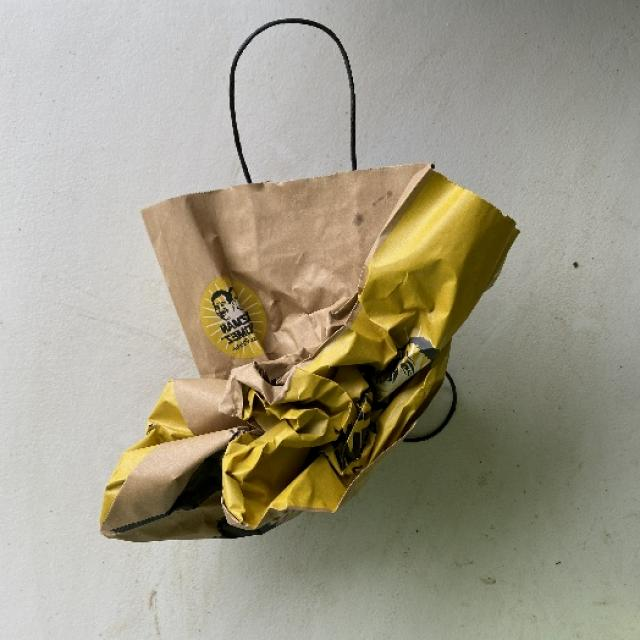inorganic: (92, 16, 526, 546)
